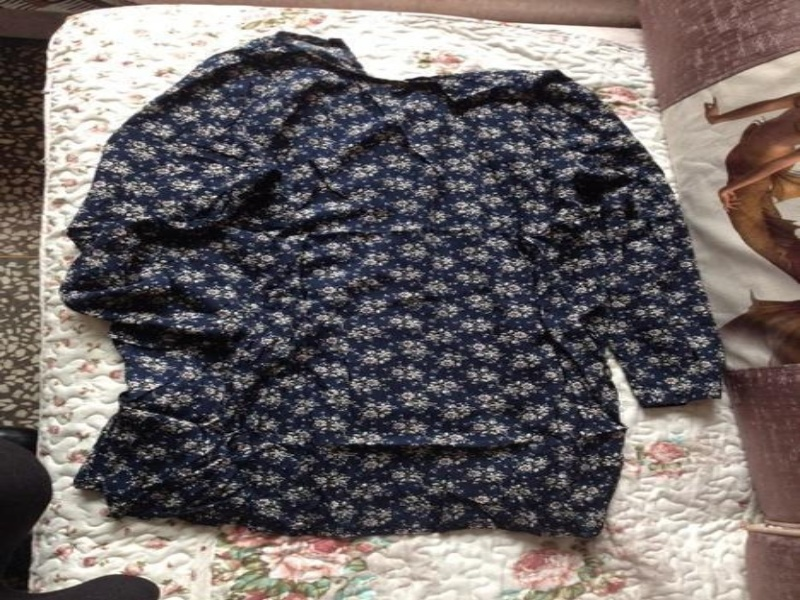long_sleeved_dress: (56, 31, 730, 540)
